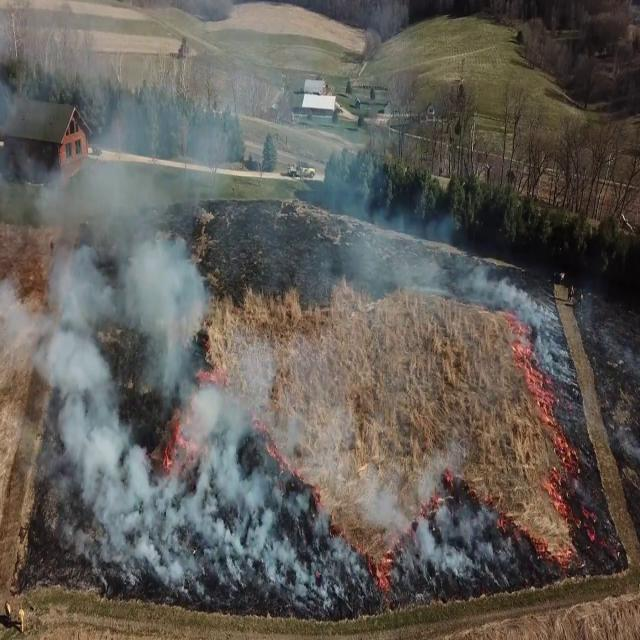Smoke: (4, 303, 494, 597), (0, 107, 252, 596)
